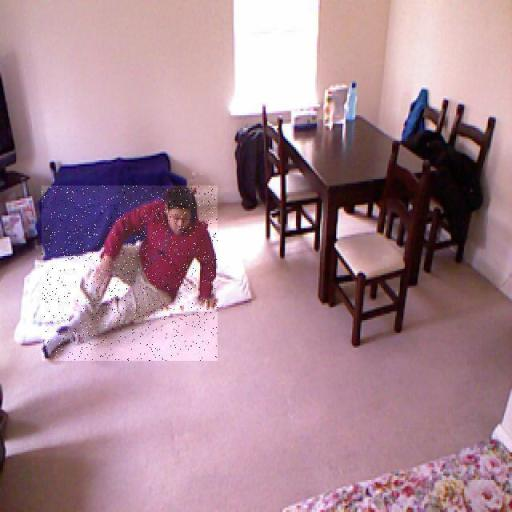Fall: (42, 186, 218, 361)
